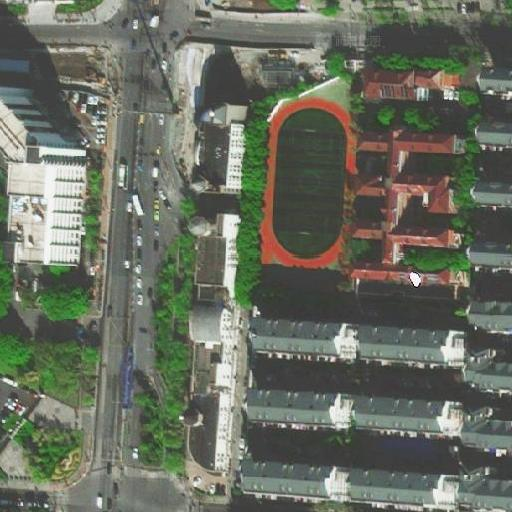building: (191, 304, 242, 463), (345, 469, 468, 512), (249, 318, 363, 358), (343, 392, 459, 431), (194, 117, 247, 197), (196, 204, 242, 295), (245, 460, 348, 500), (361, 325, 462, 365), (249, 389, 350, 426), (394, 165, 462, 219), (355, 266, 462, 295), (378, 67, 455, 102), (460, 407, 512, 450), (387, 128, 464, 156), (392, 224, 466, 251), (463, 474, 512, 509), (463, 354, 512, 388), (475, 304, 512, 333), (482, 236, 512, 265), (481, 179, 512, 206), (482, 67, 512, 94), (343, 217, 382, 237), (482, 121, 512, 146), (348, 174, 384, 192)
